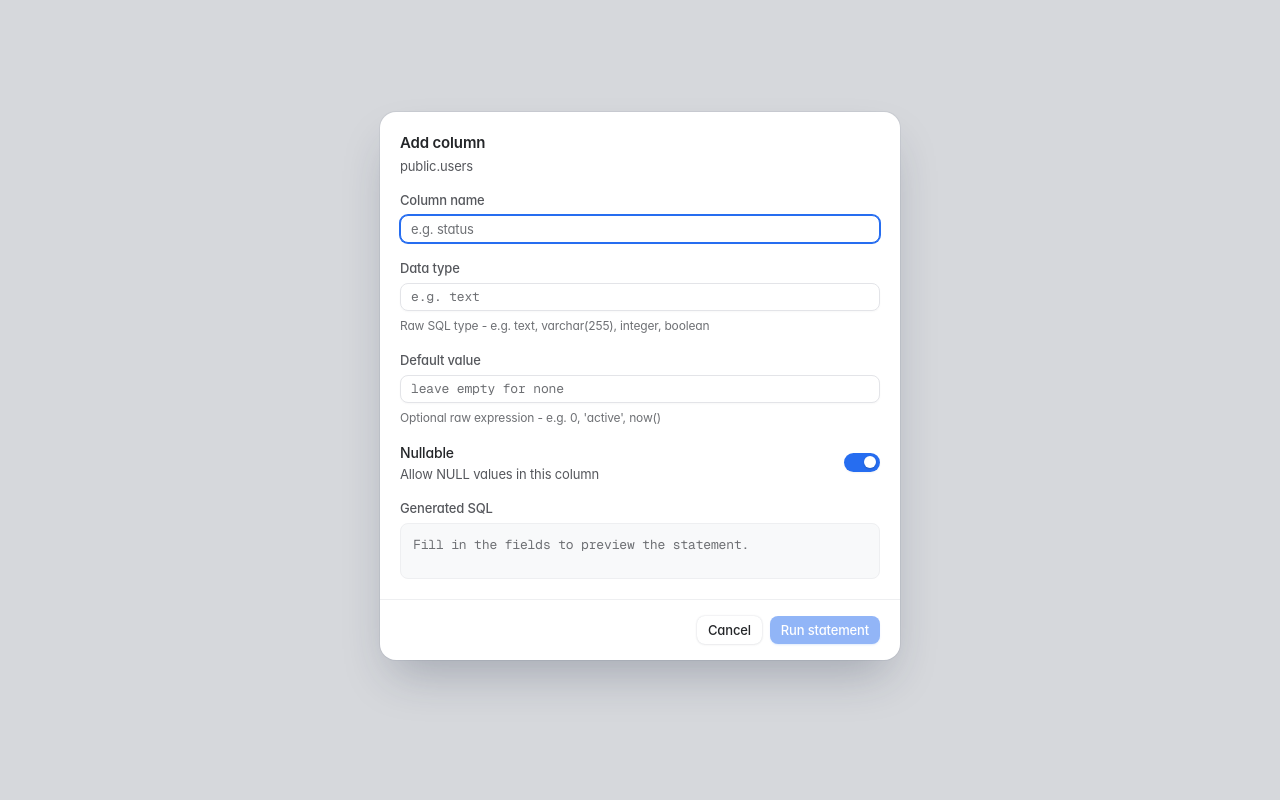
Test: adding a column that cannot exist › is satisfied by a default
This screenshot has width=1280, height=800.
Type "email" into the field labelled "Column name" at (640, 228), box [400,214,880,242]
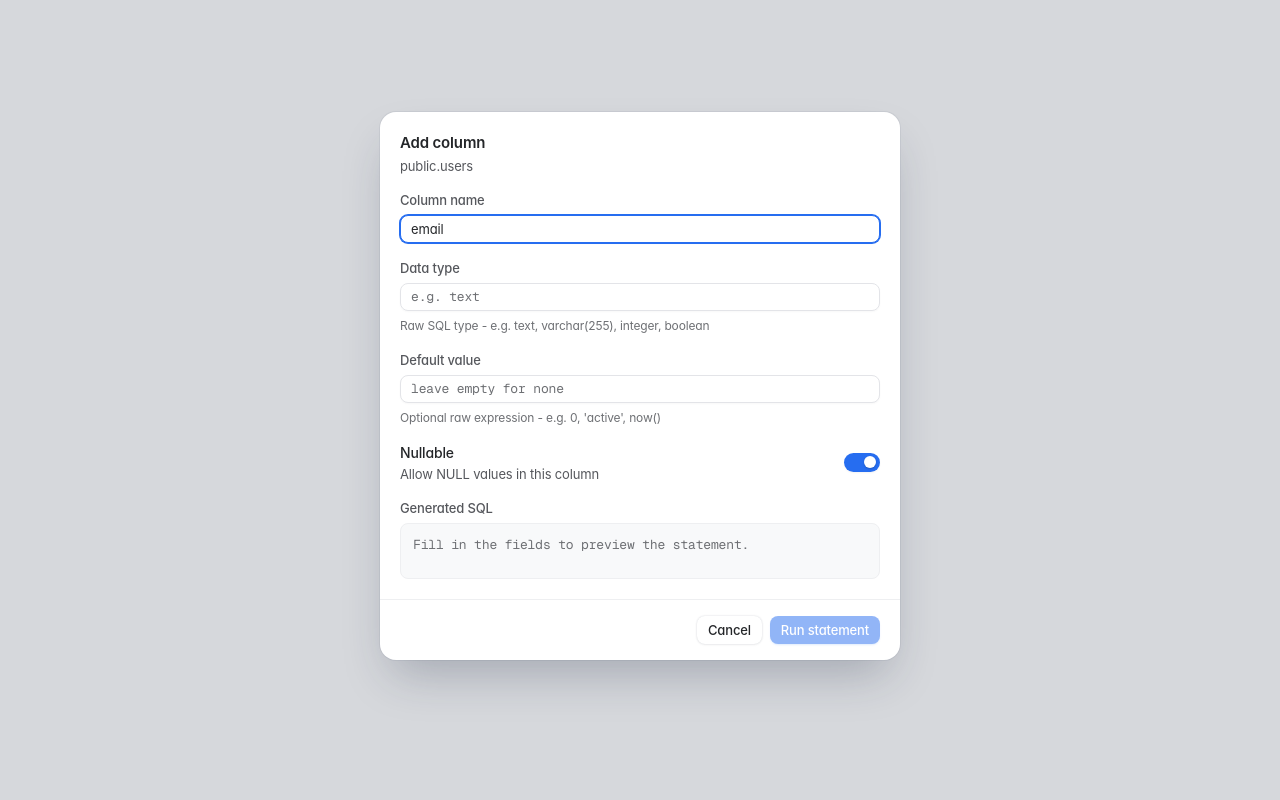
Type "text" into the field labelled "Data type" at (640, 296), box [400,282,880,310]
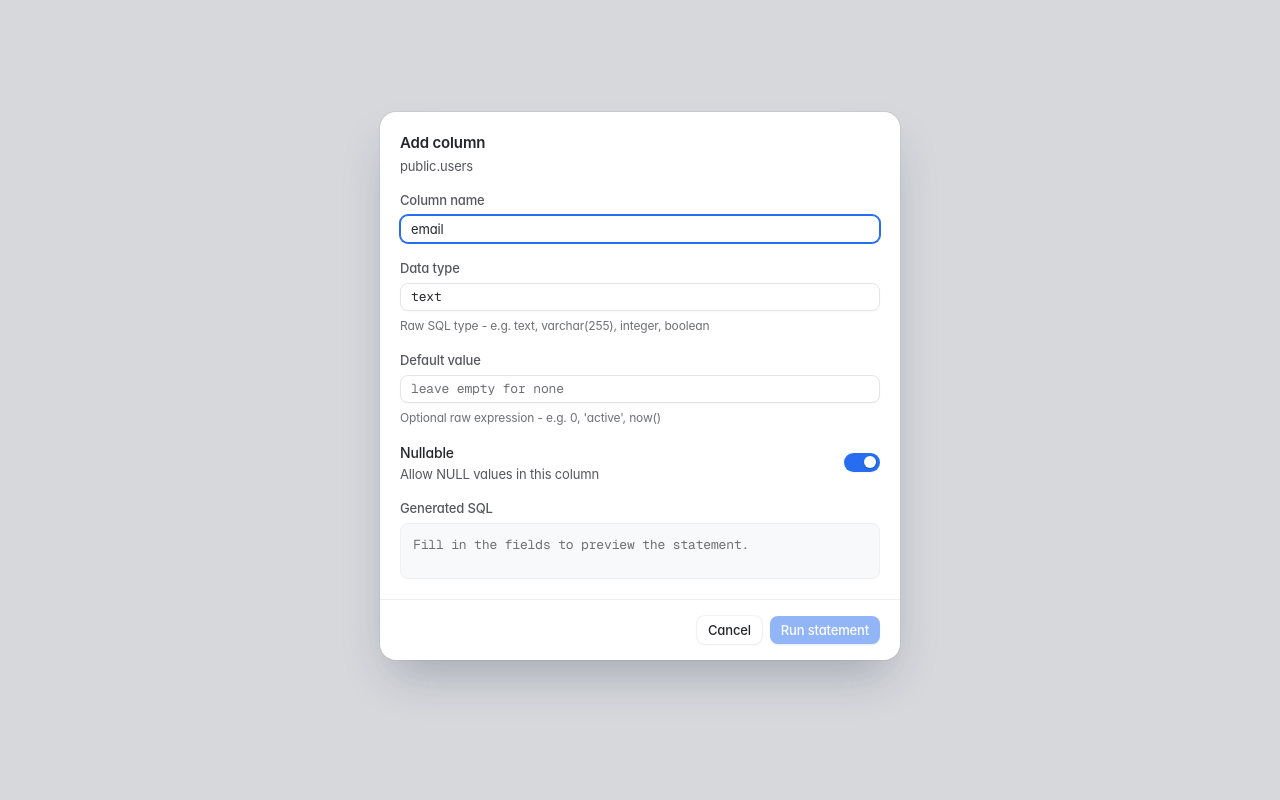
Click the switch at (862, 462), box [844,453,880,472]
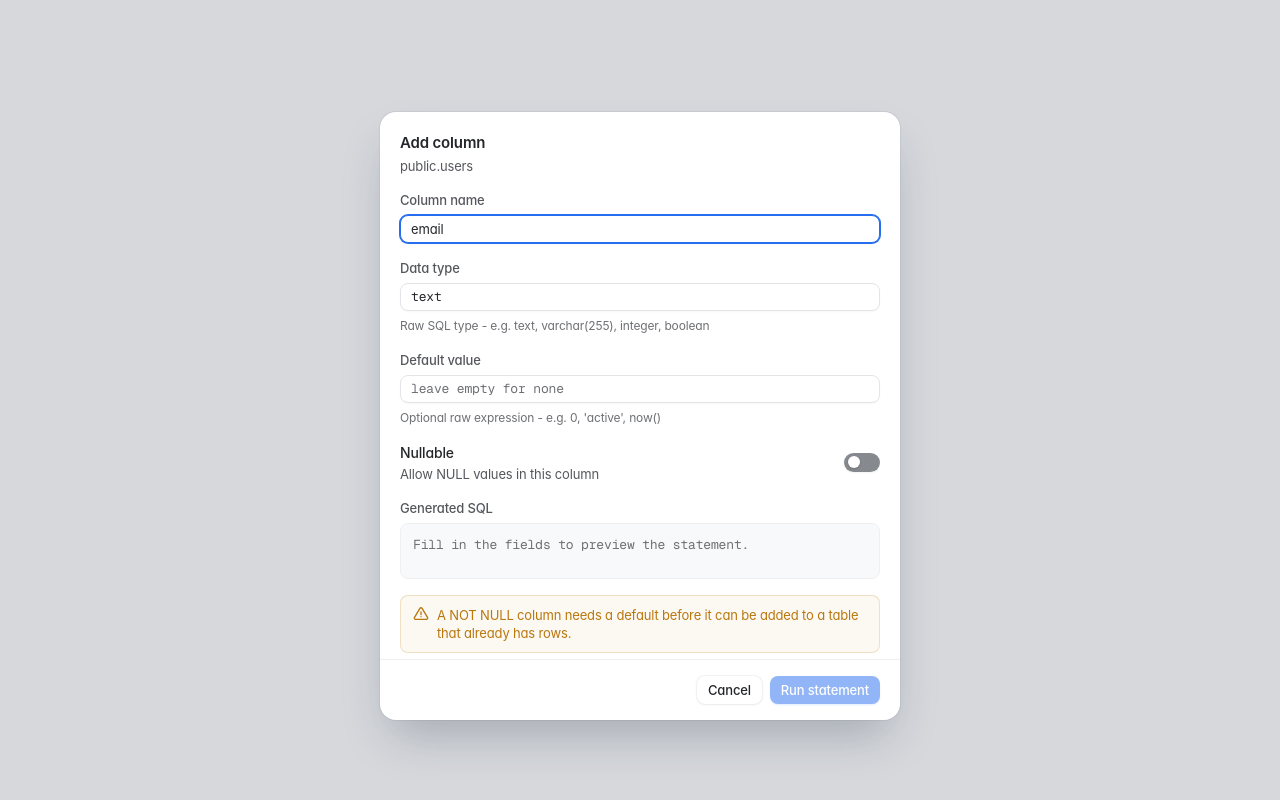
Type "''" into the field labelled "Default" at (640, 388), box [400,374,880,402]
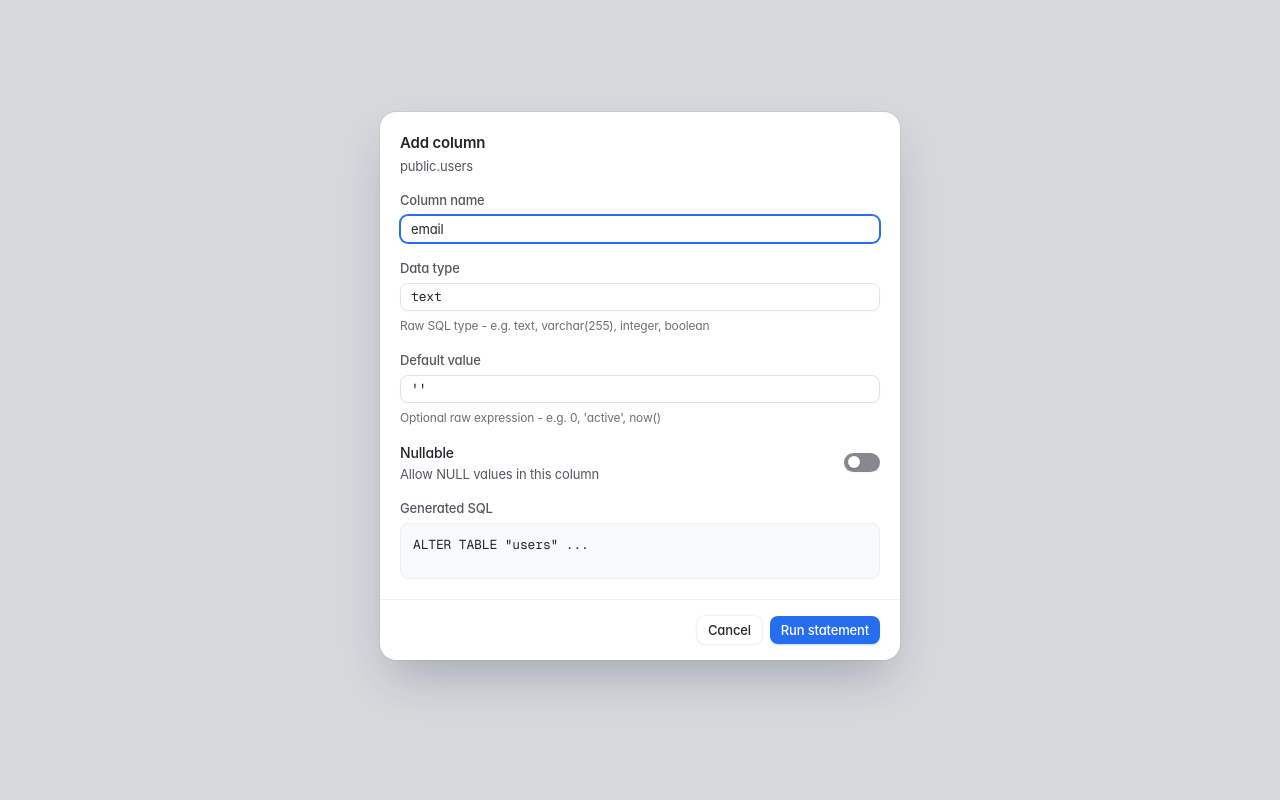
Result: the text "needs a default" is gone
